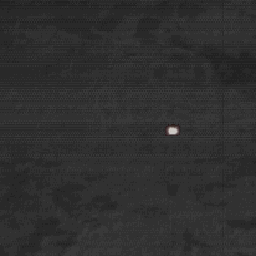Target: (166, 124, 180, 135)
